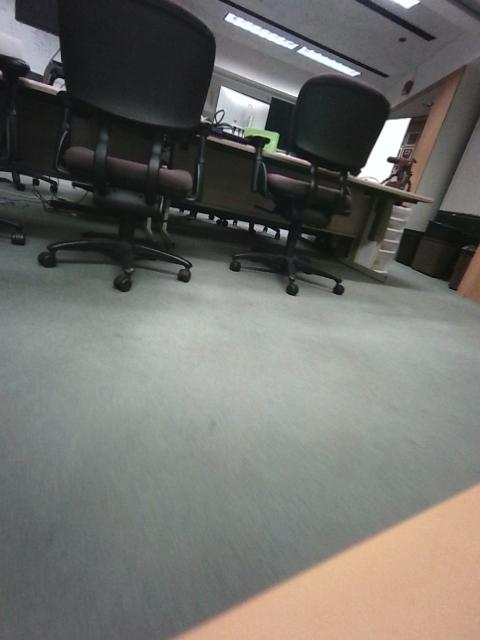block: (110, 299, 160, 354)
